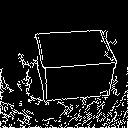cube: (29, 21, 121, 101)
